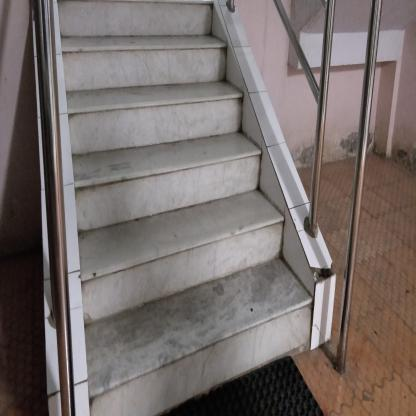stairs: (94, 18, 263, 407)
